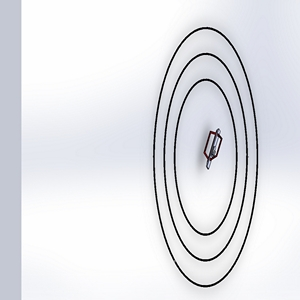circle: (151, 23, 268, 292)
submarine: (197, 124, 228, 176)
